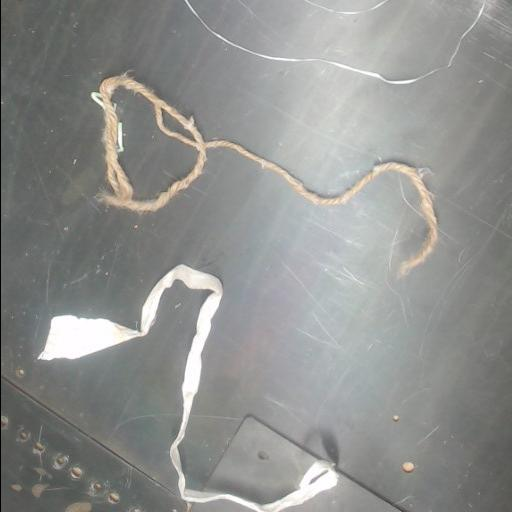conveyor belt: (1, 0, 512, 511)
jute: (97, 73, 436, 274)
thread: (38, 264, 337, 511), (183, 0, 485, 84), (304, 0, 388, 14)
